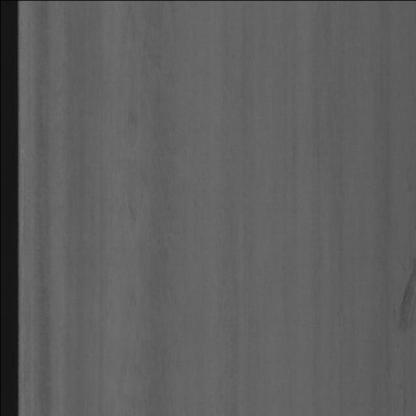water_spot: (388, 246, 416, 349)
